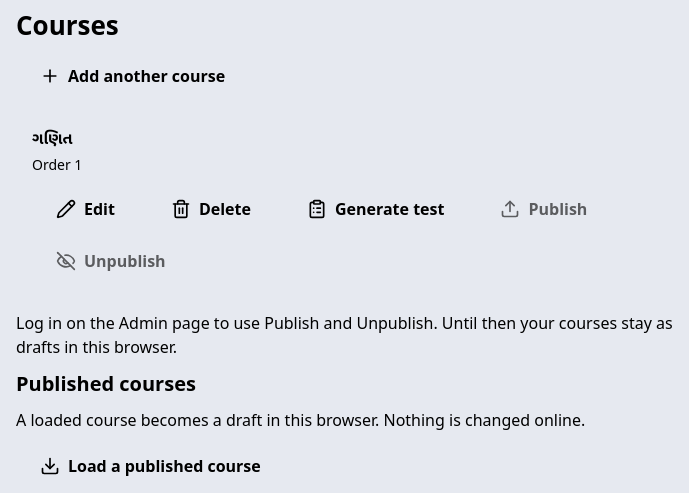
CourseManager: Generate test › opens the tests of THAT course, with Generate new test on top and the saved tests below
Click the button "Generate test": point(376, 208) [283,186,468,230]
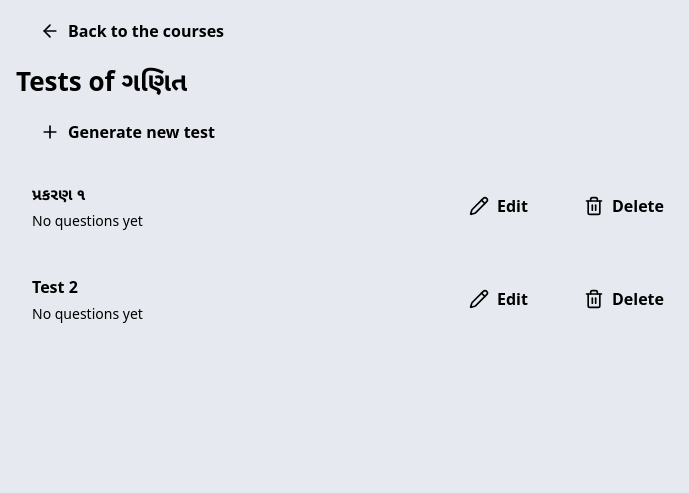
Check: the button "Generate new test" is shown, box [16,110,239,154]
Check: the text "પ્રકરણ ૧" is shown, box [32,182,86,204]
